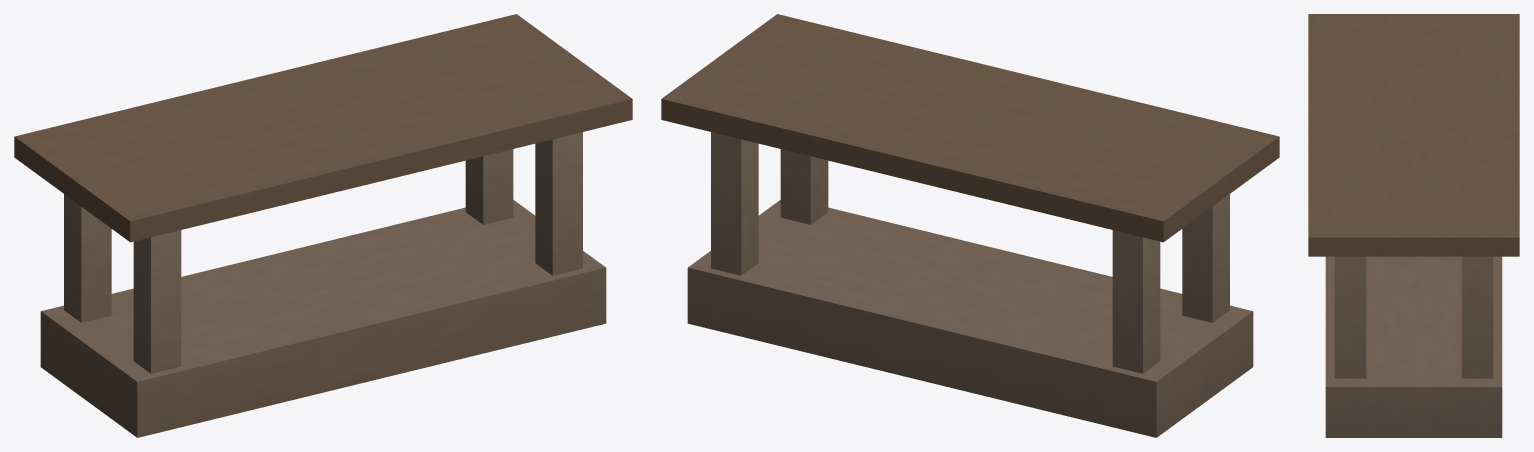
File: porch.glb
The picture shows the model from 3 angles, left to right: view 1: azimuth 30°, elevation 25°; view 2: azimuth 150°, elevation 25°; view 3: azimuth 270°, elevation 25°; orthographic projection. The views are drawn at different scales.
Visible parts, largest first — view 1: porch; view 2: porch; view 3: porch.
Part boxes in pixels (box(x1,y1,x2,y2)): porch: box(14, 14, 632, 437); porch: box(661, 14, 1279, 437); porch: box(1308, 14, 1519, 437).
Size of the model in its own units: 1.5 by 0.65 by 0.6.
1 material, 1 textured.
